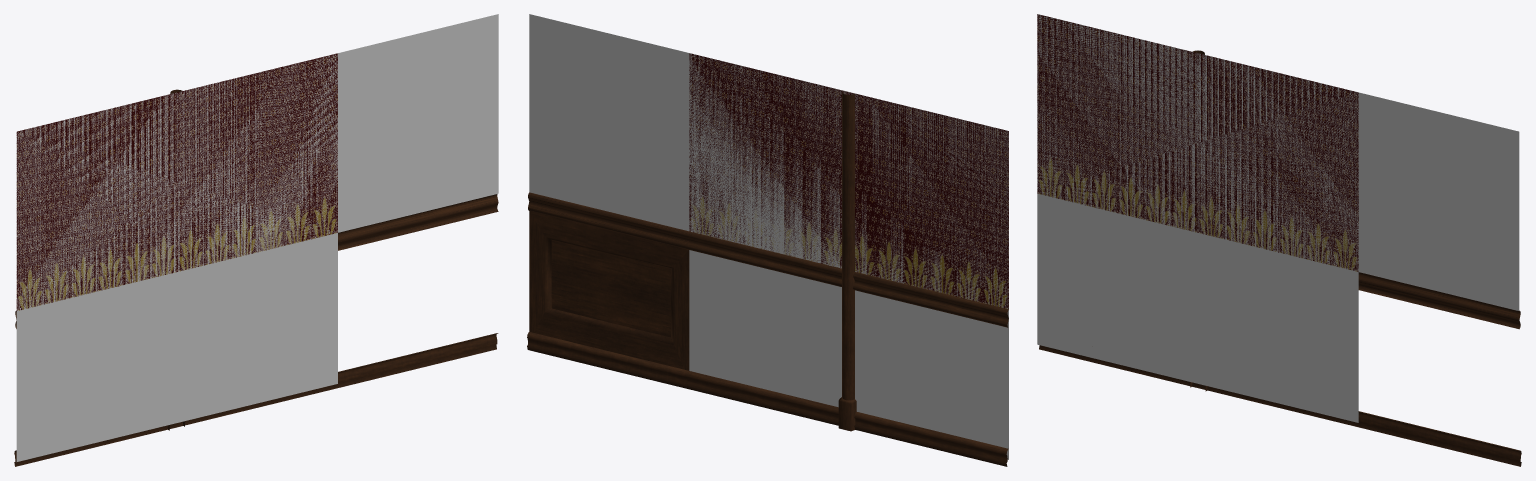
File: walls_various.fbx
The picture shows the model from 3 angles, left to right: view 1: azimuth 30°, elevation 25°; view 2: azimuth 150°, elevation 25°; view 3: azimuth 330°, elevation 25°; orthographic projection.
Visible parts, largest first — view 1: wall_doubleWallpaper_4m, wall_halfWood_4m, wall_halfWood_2m, wall_doubleWallpaper_1m, wall_solidWallpaper_4m, wall_solidWallpaper_1m, wall_doubleWallpaper_2m, wall_solidWallpaper_2m; view 2: wall_doubleWallpaper_4m, wall_halfWood_2m, wall_solidWallpaper_2m, wall_solidWallpaper_4m, wall_halfWood_4m, wall_doubleWallpaper_2m, wall_doubleWallpaper_1m, wallColumn, wall_solidWallpaper_1m; view 3: wall_doubleWallpaper_4m, wall_solidWallpaper_4m, wall_halfWood_4m, wall_halfWood_2m, wall_doubleWallpaper_2m, wall_solidWallpaper_2m, wall_doubleWallpaper_1m, wall_solidWallpaper_1m.
Part boxes in pixels (left/top/right/bottom): wall_doubleWallpaper_4m: left=14, top=53, right=337, bottom=466; wall_halfWood_4m: left=14, top=53, right=337, bottom=466; wall_halfWood_2m: left=336, top=14, right=498, bottom=388; wall_doubleWallpaper_1m: left=255, top=54, right=337, bottom=407; wall_solidWallpaper_4m: left=16, top=57, right=337, bottom=437; wall_solidWallpaper_1m: left=257, top=55, right=337, bottom=394; wall_doubleWallpaper_2m: left=175, top=57, right=337, bottom=427; wall_solidWallpaper_2m: left=175, top=56, right=337, bottom=427; wall_doubleWallpaper_4m: left=687, top=53, right=1008, bottom=466; wall_halfWood_2m: left=527, top=14, right=689, bottom=388; wall_solidWallpaper_2m: left=689, top=54, right=848, bottom=425; wall_solidWallpaper_4m: left=689, top=60, right=1008, bottom=453; wall_halfWood_4m: left=687, top=53, right=1008, bottom=465; wall_doubleWallpaper_2m: left=687, top=55, right=848, bottom=425; wall_doubleWallpaper_1m: left=687, top=55, right=768, bottom=407; wallColumn: left=838, top=91, right=856, bottom=431; wall_solidWallpaper_1m: left=689, top=60, right=768, bottom=373; wall_doubleWallpaper_4m: left=1037, top=14, right=1360, bottom=427; wall_solidWallpaper_4m: left=1037, top=14, right=1358, bottom=415; wall_halfWood_4m: left=1037, top=14, right=1359, bottom=427; wall_halfWood_2m: left=1358, top=92, right=1521, bottom=466; wall_doubleWallpaper_2m: left=1198, top=55, right=1359, bottom=426; wall_solidWallpaper_2m: left=1198, top=55, right=1358, bottom=416; wall_doubleWallpaper_1m: left=1278, top=74, right=1360, bottom=426; wall_solidWallpaper_1m: left=1278, top=87, right=1358, bottom=414.
Bounding box in the file's own units: 600 × 400 × 14.01.
